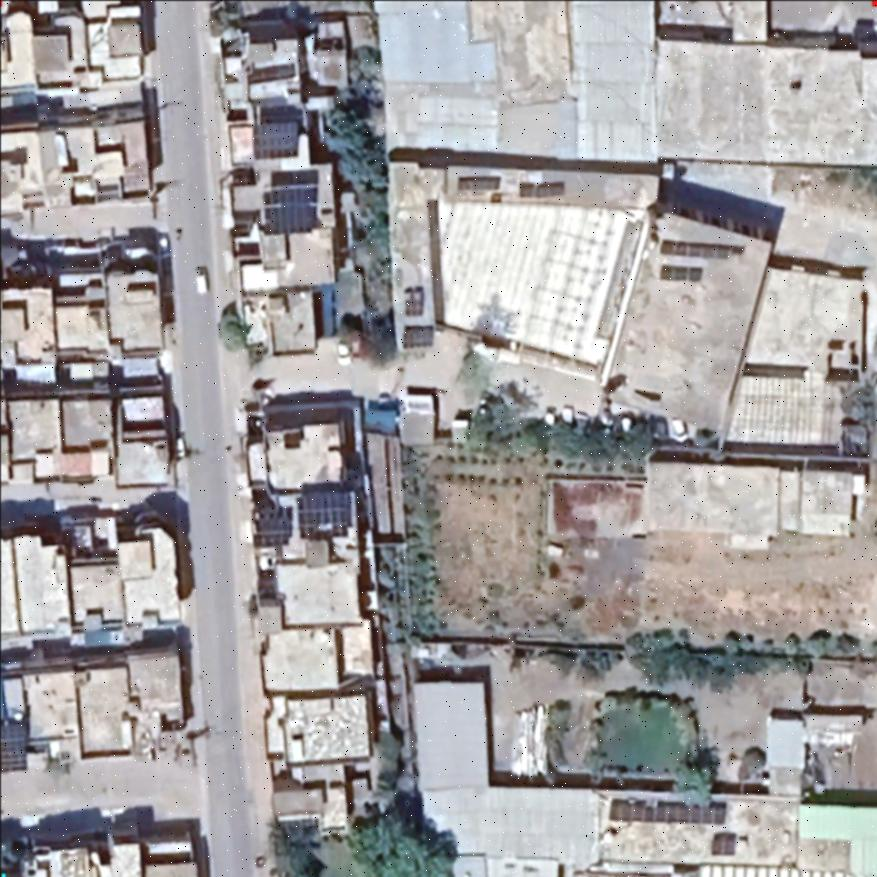Solarpanel: (260, 163, 326, 233), (604, 793, 734, 825), (292, 490, 352, 544), (250, 118, 304, 160), (653, 237, 747, 261), (248, 500, 294, 548), (1, 720, 29, 772), (513, 176, 571, 198), (706, 827, 742, 858), (654, 262, 707, 283), (398, 322, 436, 350), (453, 172, 502, 193)
